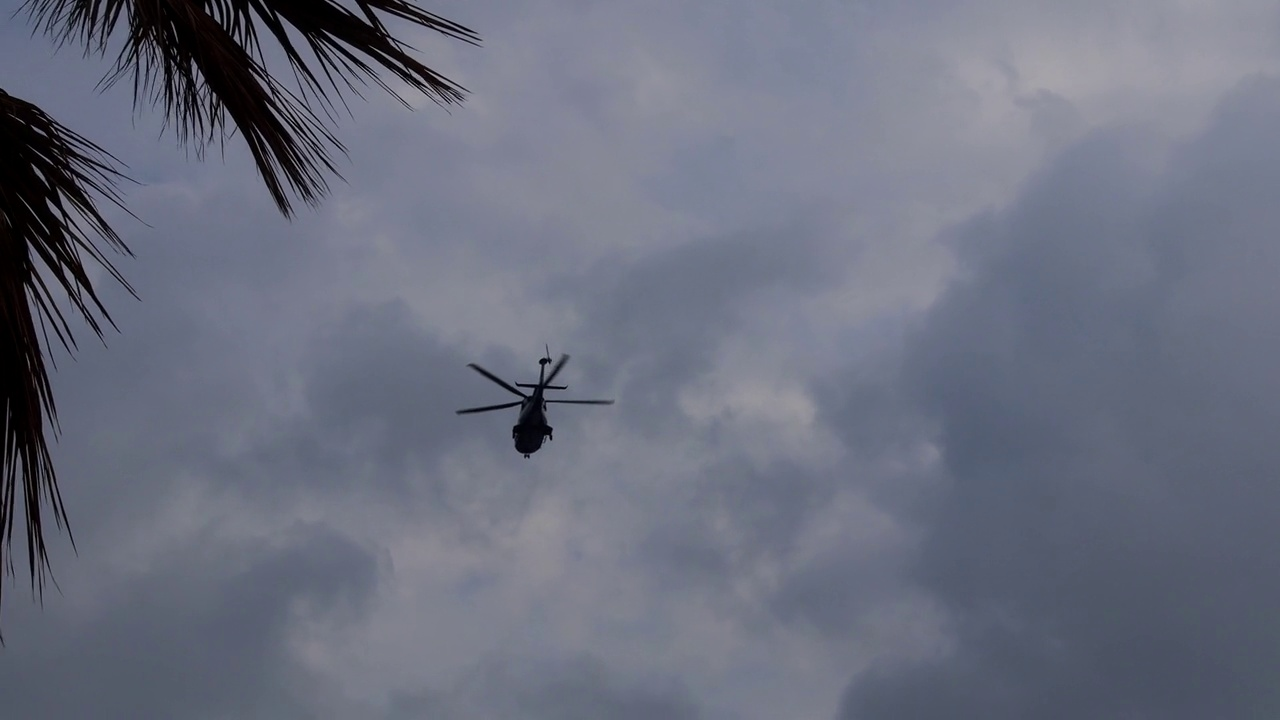heli: (455, 355, 614, 458)
